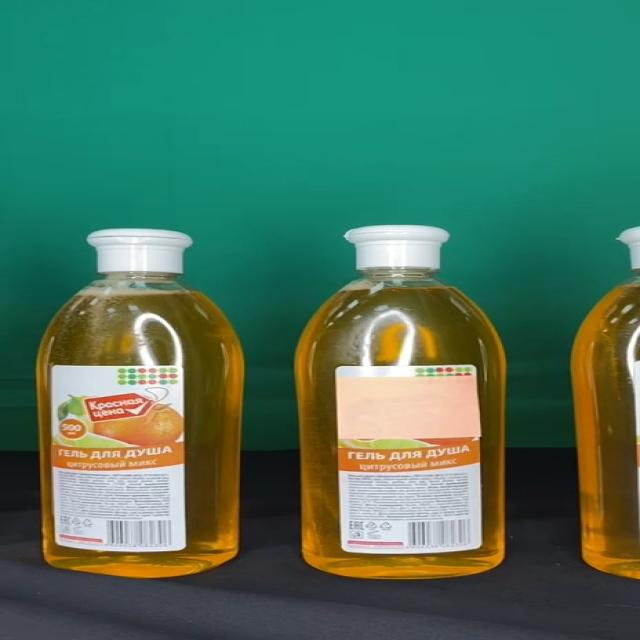Bottle: (296, 226, 506, 578), (36, 228, 246, 578)
Cap: (344, 226, 450, 270), (87, 229, 193, 272)
